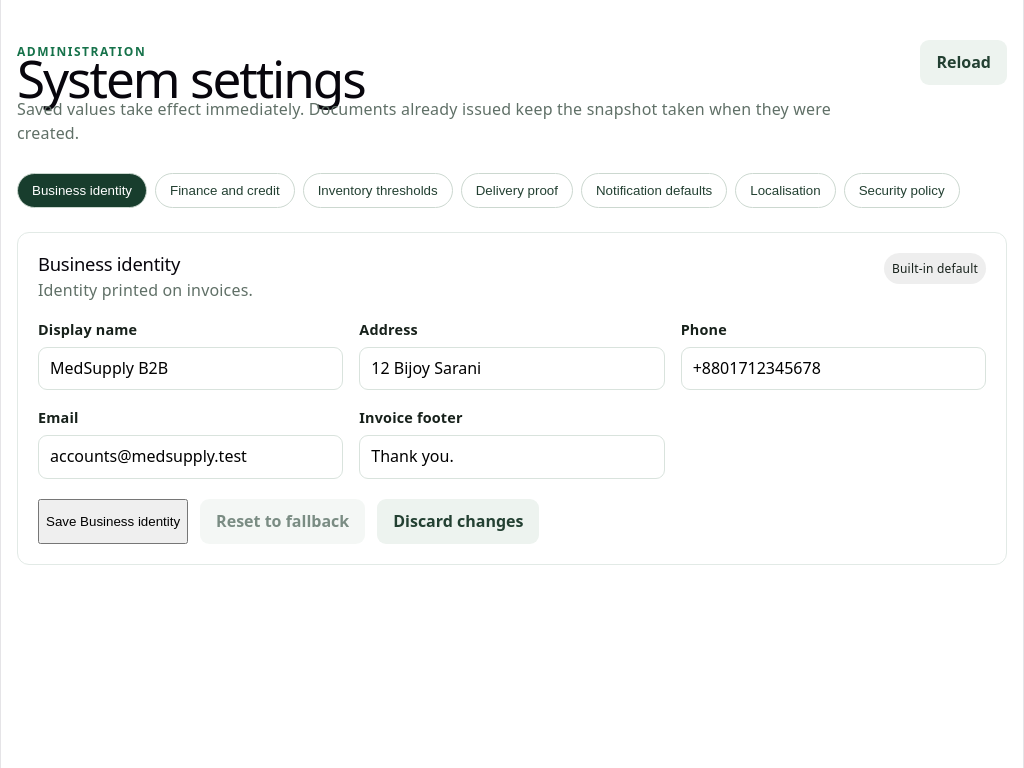
Test: SystemSettings › only offers a reset for a group that has a saved override
Expected: the button "Reset to fallback" is disabled, top-left (200, 498), bottom-right (365, 544)
Click the button "Inventory thresholds".
click(378, 190)  # box top-left (303, 173), bottom-right (453, 208)
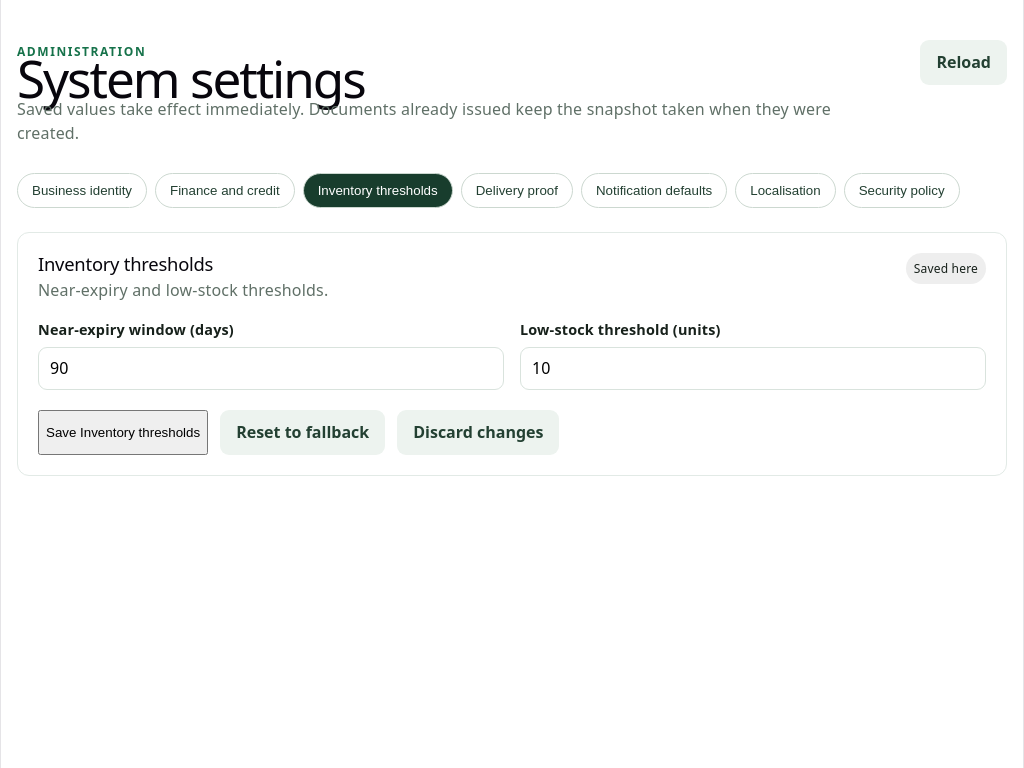
Result: the button "Reset to fallback" is enabled at top-left (220, 410), bottom-right (385, 455)
